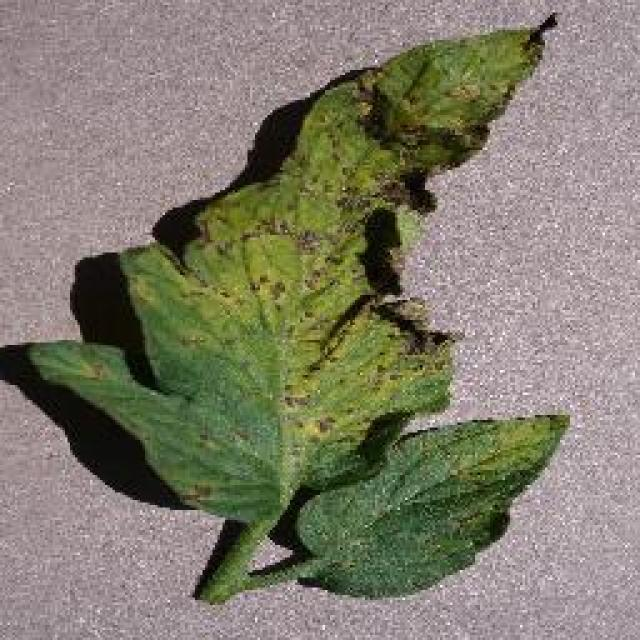Tomato Septoria spot leaf: (27, 11, 572, 522), (282, 403, 576, 602)
